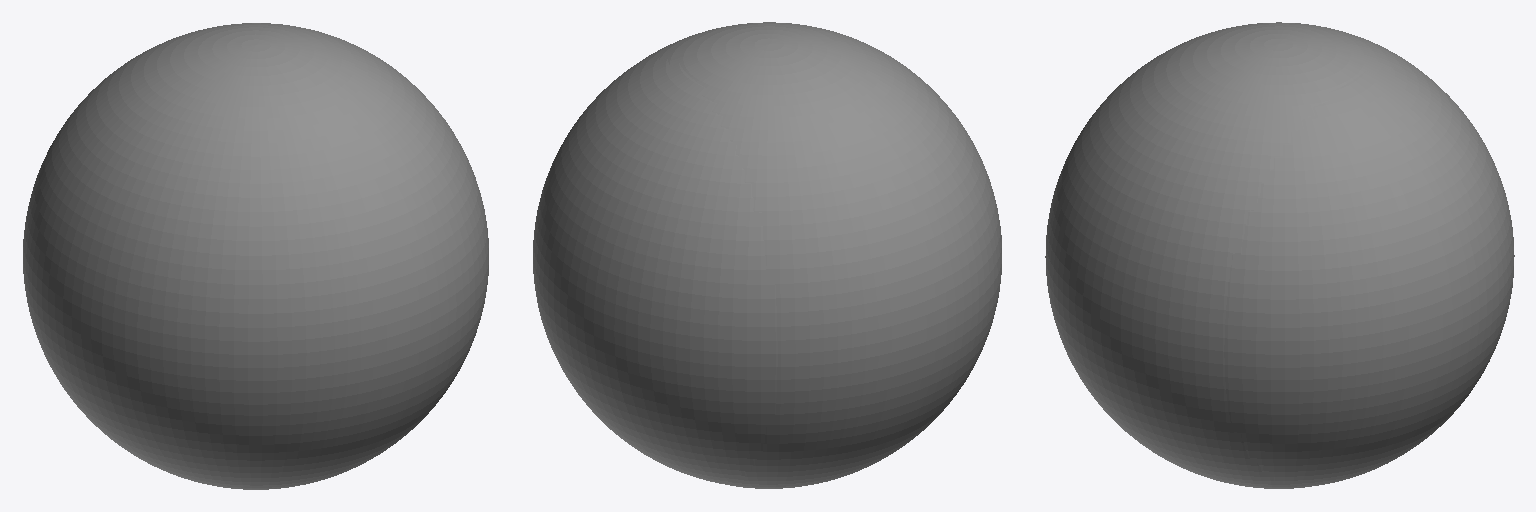
The model's file is sun1.obj.
3 renders of one model, left to right at view 1: azimuth 30°, elevation 25°; view 2: azimuth 150°, elevation 25°; view 3: azimuth 270°, elevation 25°, orthographic.
Parts seen in each view (by area): view 1: Atmosphere; view 2: Atmosphere, Planet; view 3: Planet, Atmosphere.
Part boxes in pixels (x1,y1,x2,y2): Atmosphere: (23, 24, 488, 489); Atmosphere: (640, 22, 1001, 488); Planet: (533, 57, 777, 483); Planet: (1224, 66, 1514, 486); Atmosphere: (1045, 22, 1435, 488).
Bounding box in the file's own units: 148 × 148 × 148.